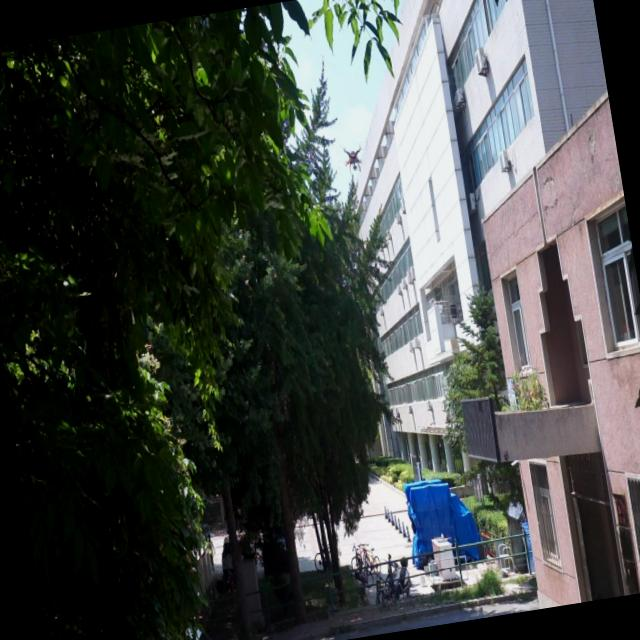drone: (340, 141, 368, 174)
